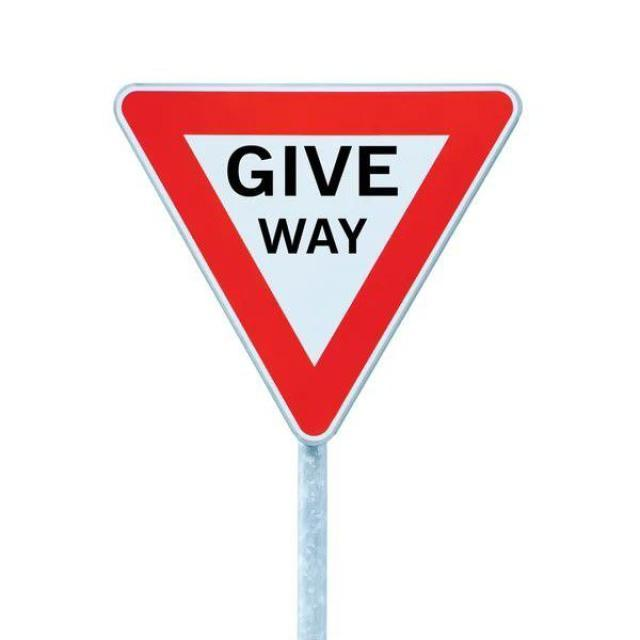give way: (111, 81, 522, 445)
